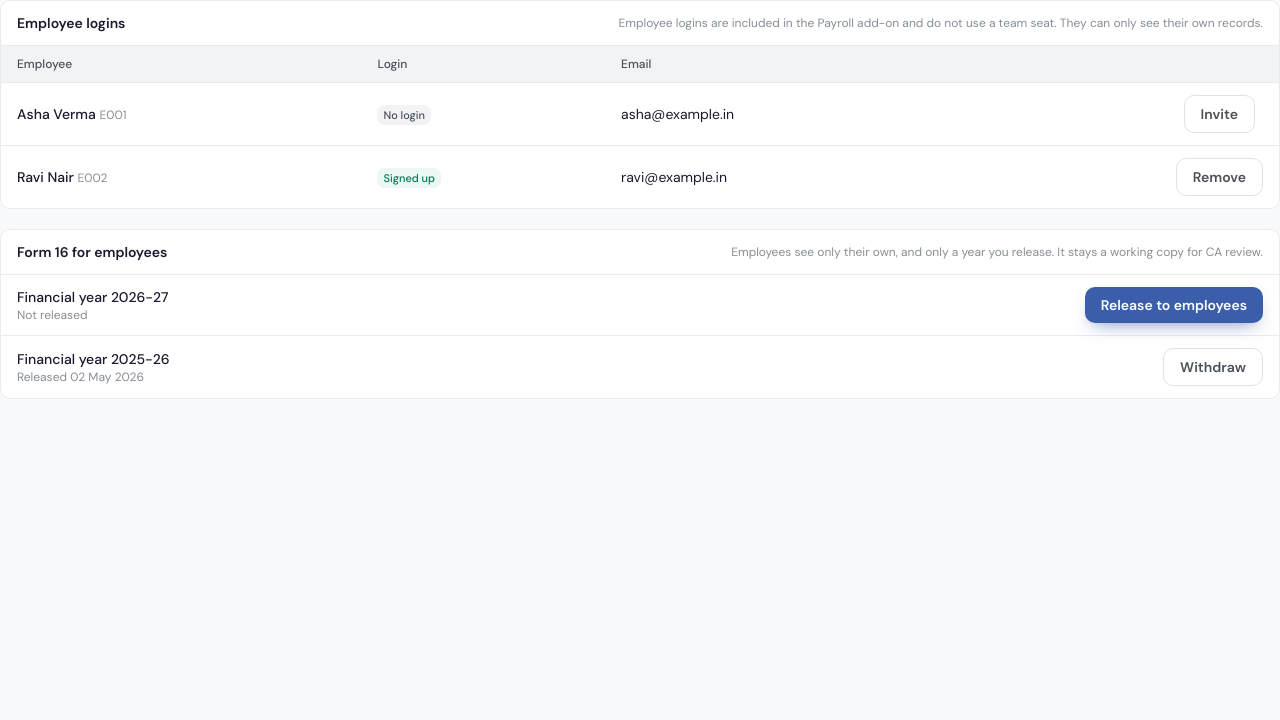
Test: AccessTab (the employee app) › invites by email with the address checked first, then shows the one-time link
Click the button "Invite" at (1219, 114), box [1184, 95, 1255, 133]
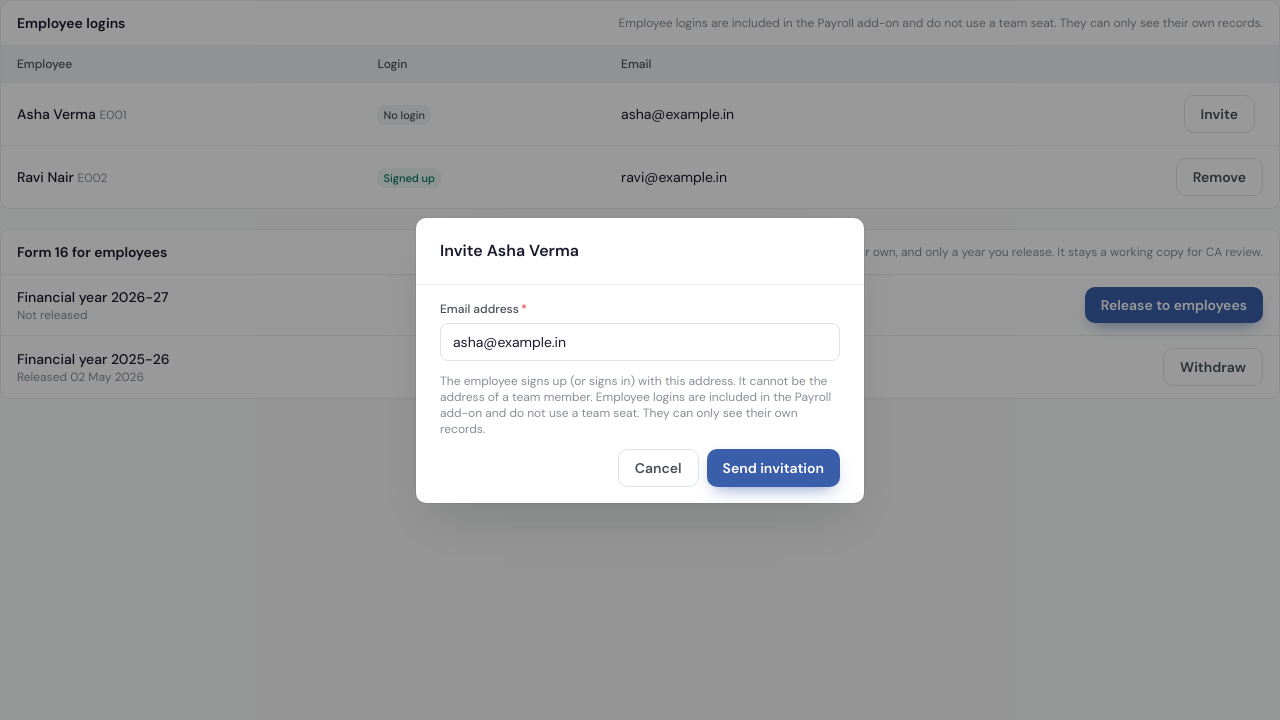
Expected: the field labelled "Email address*" holds "asha@example.in"
Replace the text in the field labelled "Email address*" with "not-an-email" at (640, 342), box [440, 322, 840, 360]
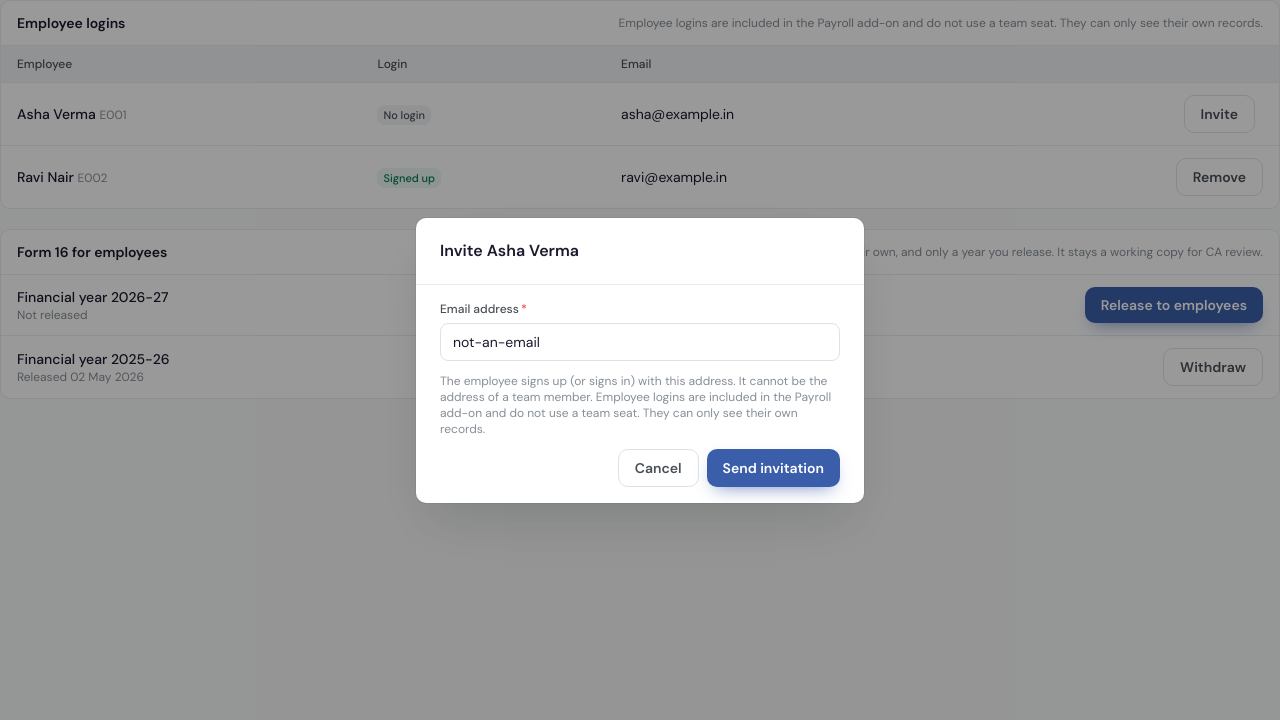
Click the button "Send invitation" at (773, 468), box [707, 448, 840, 486]
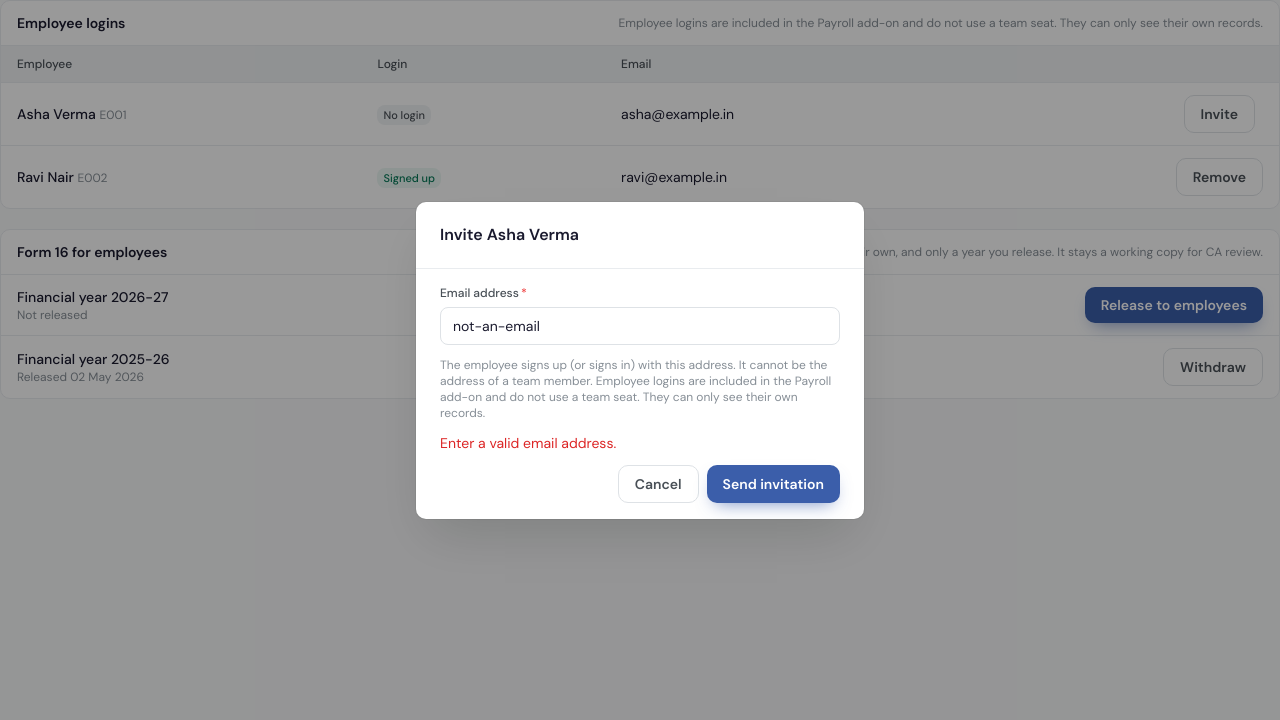
Expected: the message "Enter a valid email address." is shown, [440, 434, 616, 452]
Replace the text in the field labelled "Email address*" with "Asha@Example.in" at (640, 326), box [440, 306, 840, 344]
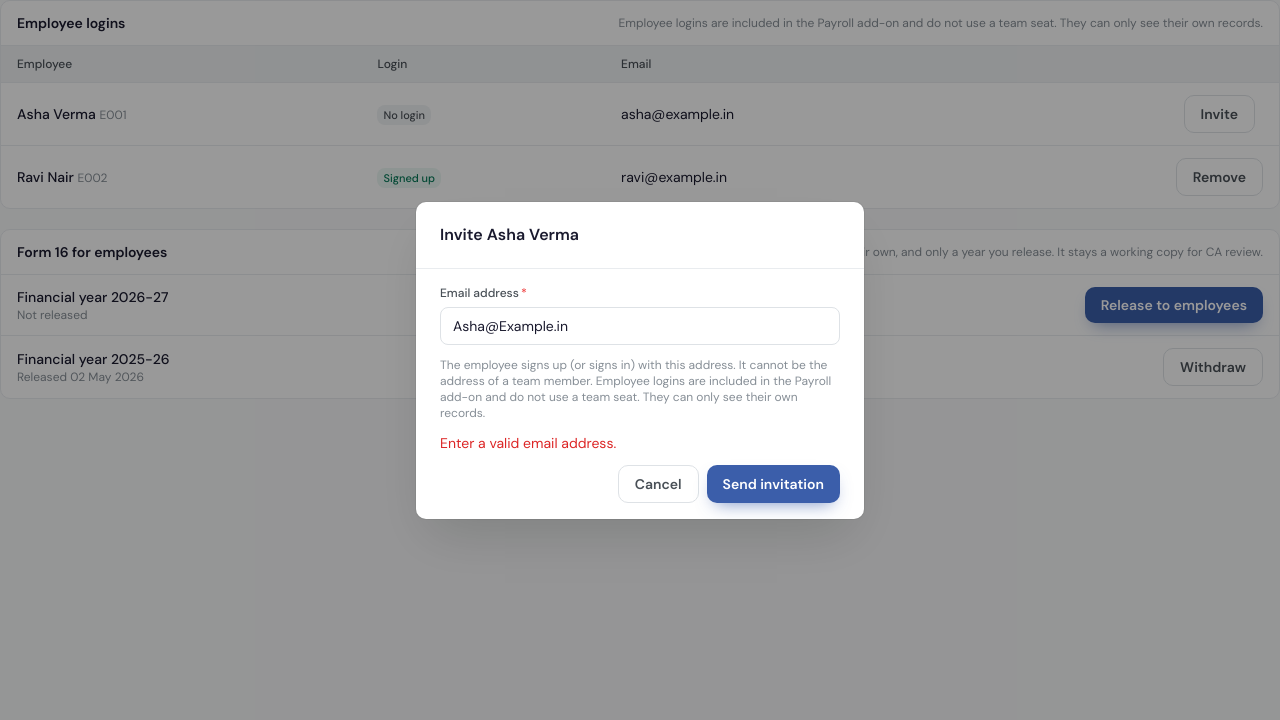
Click the button "Send invitation" at (773, 484), box [707, 464, 840, 502]
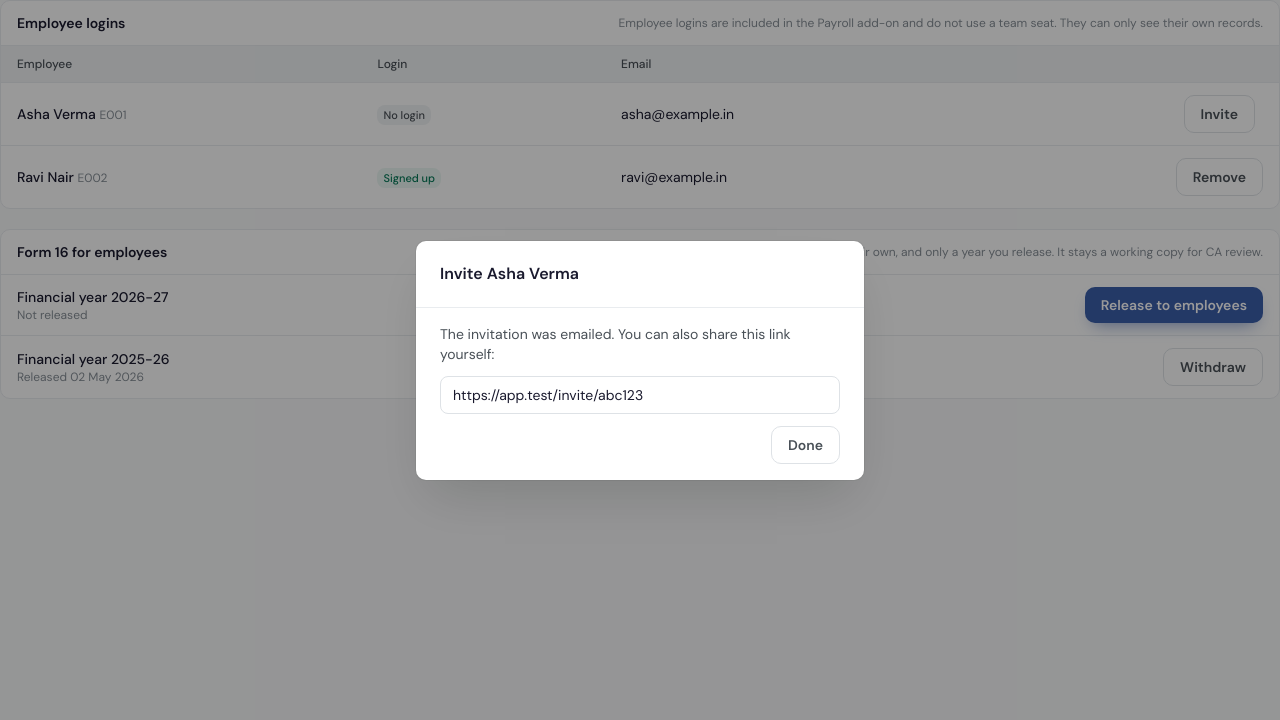
Expected: the field named "Invitation link" holds "https://app.test/invite/abc123", [440, 376, 840, 414]
